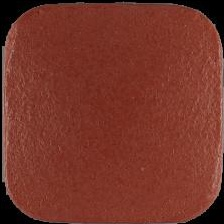55154-4235: (0, 0, 224, 224)
